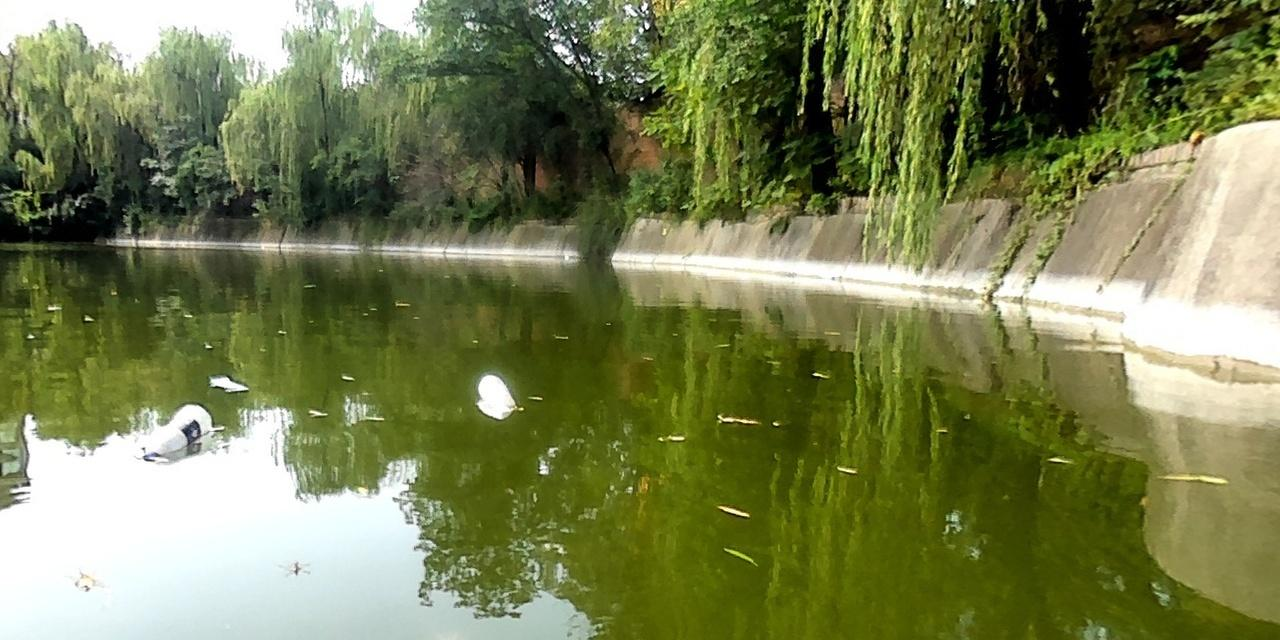bottle: (138, 399, 216, 459), (475, 369, 518, 414)
